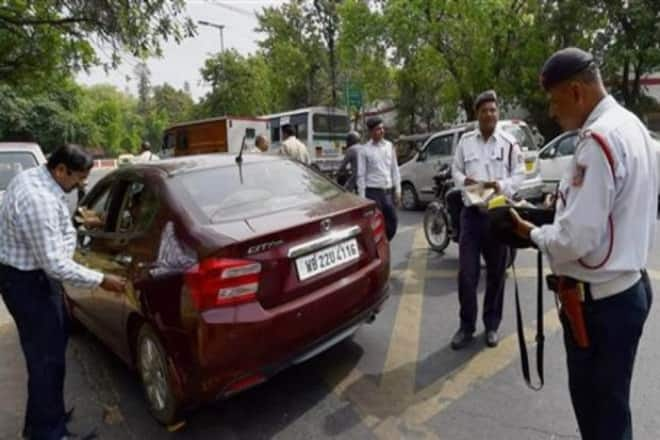number_plate: (286, 239, 365, 282)
